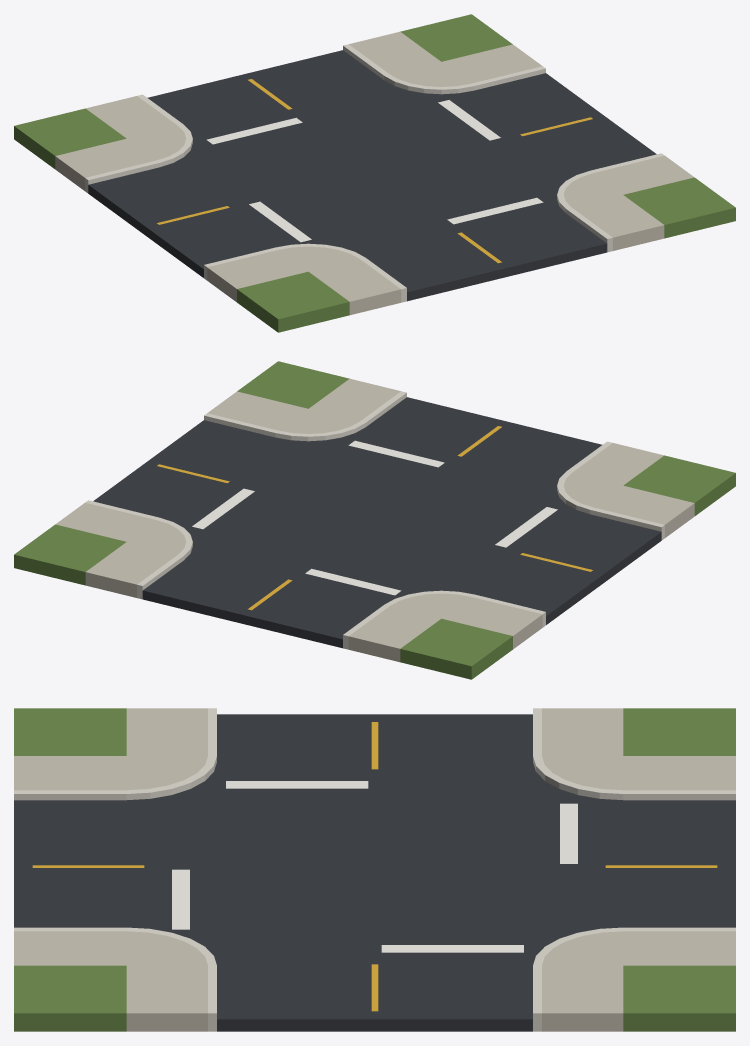
Rendered from Road_2Lane_Sidewalk_Intersection_4Way.glb.
3 views of the same model, one above another, from view 1: azimuth 30°, elevation 25°; view 2: azimuth 150°, elevation 25°; view 3: azimuth 270°, elevation 25° (orthographic). The views are drawn at different scales.
Parts seen in each view (by area): view 1: Road_2Lane_Sidewalk_Intersection_4Way_Asphalt, Road_2Lane_Sidewalk_Intersection_4Way_Sidewalk, Road_2Lane_Sidewalk_Intersection_4Way_Grass-edge, Road_2Lane_Sidewalk_Intersection_4Way_Curb, Road_2Lane_Sidewalk_Intersection_4Way_PaintWhite, Road_2Lane_Sidewalk_Intersection_4Way_PaintYellow; view 2: Road_2Lane_Sidewalk_Intersection_4Way_Asphalt, Road_2Lane_Sidewalk_Intersection_4Way_Sidewalk, Road_2Lane_Sidewalk_Intersection_4Way_Grass-edge, Road_2Lane_Sidewalk_Intersection_4Way_Curb, Road_2Lane_Sidewalk_Intersection_4Way_PaintWhite, Road_2Lane_Sidewalk_Intersection_4Way_PaintYellow; view 3: Road_2Lane_Sidewalk_Intersection_4Way_Asphalt, Road_2Lane_Sidewalk_Intersection_4Way_Sidewalk, Road_2Lane_Sidewalk_Intersection_4Way_Grass-edge, Road_2Lane_Sidewalk_Intersection_4Way_Curb, Road_2Lane_Sidewalk_Intersection_4Way_PaintWhite, Road_2Lane_Sidewalk_Intersection_4Way_PaintYellow.
Part boxes in pixels (x1,y1,x2,y2): Road_2Lane_Sidewalk_Intersection_4Way_Asphalt: [88, 50, 656, 301]; Road_2Lane_Sidewalk_Intersection_4Way_Sidewalk: [55, 31, 694, 315]; Road_2Lane_Sidewalk_Intersection_4Way_Grass-edge: [14, 14, 735, 332]; Road_2Lane_Sidewalk_Intersection_4Way_Curb: [85, 44, 664, 302]; Road_2Lane_Sidewalk_Intersection_4Way_PaintWhite: [206, 100, 543, 242]; Road_2Lane_Sidewalk_Intersection_4Way_PaintYellow: [157, 79, 592, 263]; Road_2Lane_Sidewalk_Intersection_4Way_Asphalt: [93, 397, 661, 648]; Road_2Lane_Sidewalk_Intersection_4Way_Sidewalk: [55, 378, 694, 662]; Road_2Lane_Sidewalk_Intersection_4Way_Grass-edge: [14, 361, 735, 679]; Road_2Lane_Sidewalk_Intersection_4Way_Curb: [85, 391, 664, 649]; Road_2Lane_Sidewalk_Intersection_4Way_PaintWhite: [192, 440, 557, 595]; Road_2Lane_Sidewalk_Intersection_4Way_PaintYellow: [157, 426, 592, 610]; Road_2Lane_Sidewalk_Intersection_4Way_Asphalt: [14, 714, 735, 1031]; Road_2Lane_Sidewalk_Intersection_4Way_Sidewalk: [14, 708, 735, 1031]; Road_2Lane_Sidewalk_Intersection_4Way_Grass-edge: [14, 708, 735, 1031]; Road_2Lane_Sidewalk_Intersection_4Way_Curb: [14, 708, 735, 1031]; Road_2Lane_Sidewalk_Intersection_4Way_PaintWhite: [172, 781, 577, 952]; Road_2Lane_Sidewalk_Intersection_4Way_PaintYellow: [32, 722, 717, 1011].
Bounding box in the file's own units: 16 × 0.45 × 16.
